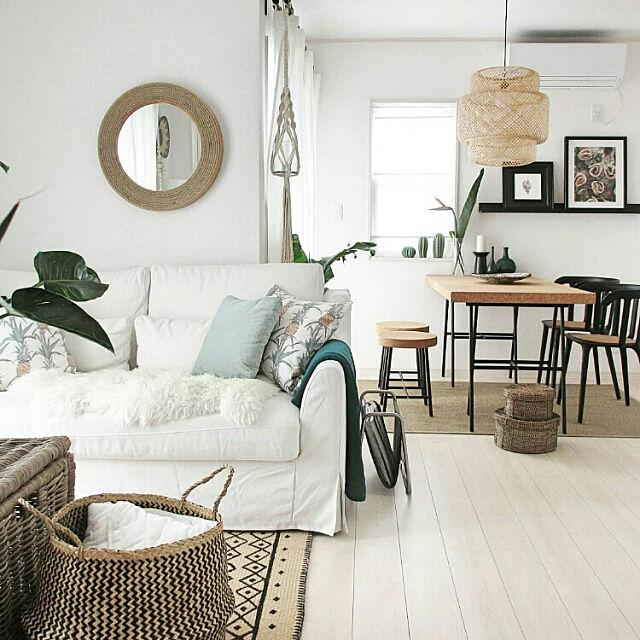white chair: (548, 280, 632, 420), (376, 271, 449, 424)
white sofa: (0, 256, 356, 577)
